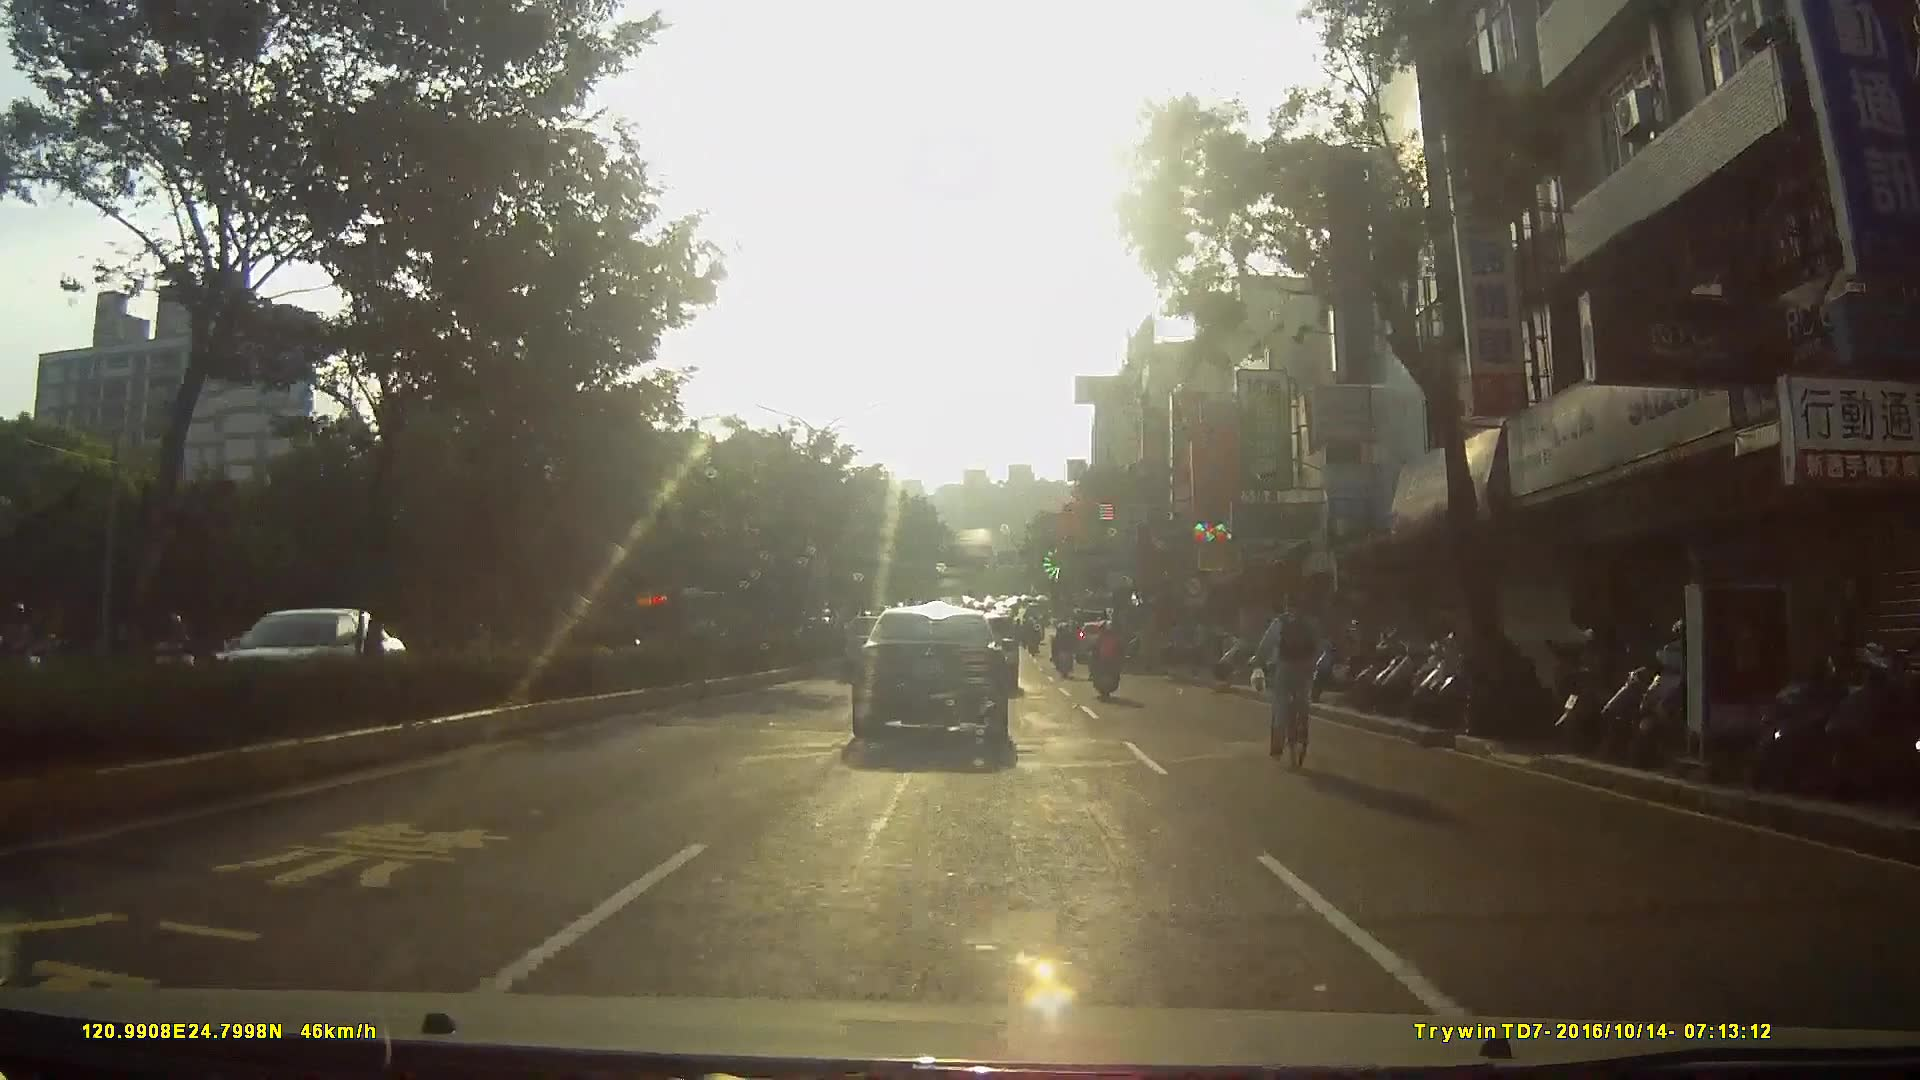rider: (1253, 589, 1331, 764), (5, 599, 65, 705), (1088, 621, 1122, 702), (1049, 620, 1076, 678)
vehicle: (189, 600, 424, 714), (853, 605, 1027, 756)
